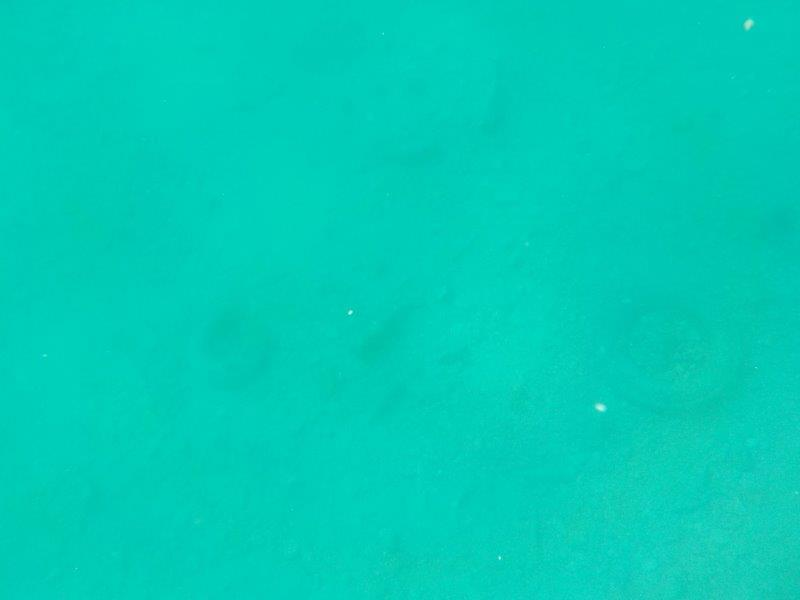tire: (586, 276, 749, 419), (173, 301, 278, 397)
